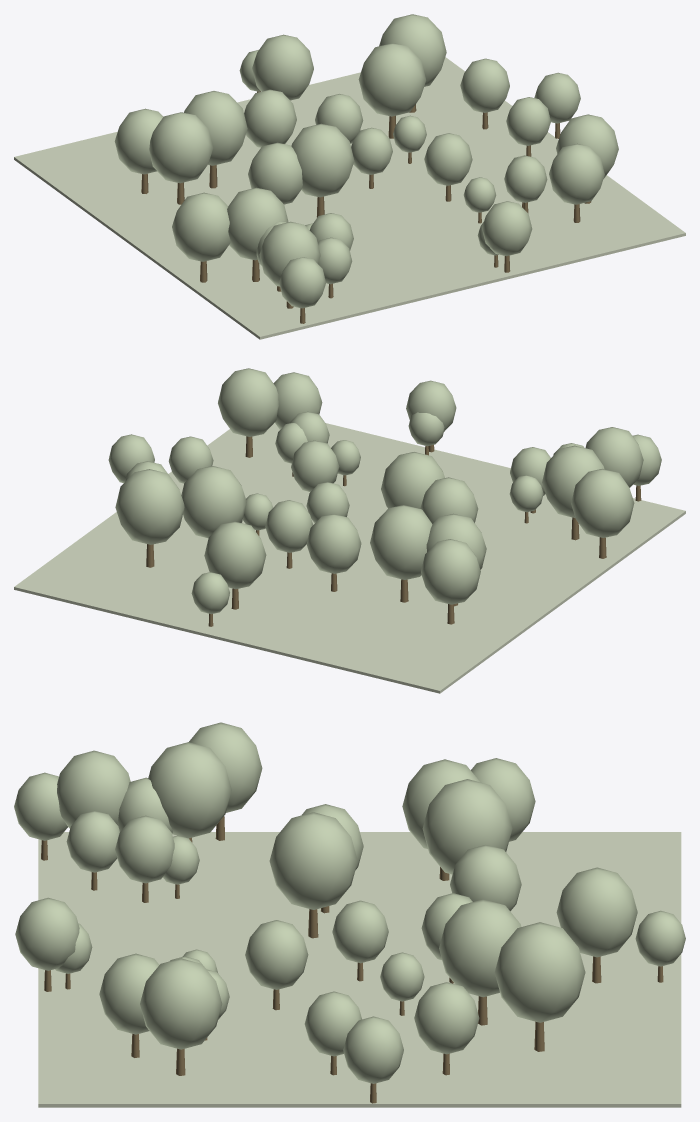
3 views of the same model, one above another, from view 1: azimuth 30°, elevation 25°; view 2: azimuth 150°, elevation 25°; view 3: azimuth 270°, elevation 25° (orthographic). The views are drawn at different scales.
Parts seen in each view (by area): view 1: terrain, lod-near-7, lod-near-16, lod-near-18, lod-near-12, lod-near-28, lod-near-6, lod-near-8, lod-near-1, lod-near-31, lod-near-15, lod-near-20 (+16 smaller); view 2: terrain, lod-near-15, lod-near-8, lod-near-7, lod-near-12, lod-near-17, lod-near-28, lod-near-30, lod-near-20, lod-near-18, lod-near-6, lod-near-29 (+18 smaller); view 3: terrain, lod-near-15, lod-near-18, lod-near-6, lod-near-17, lod-near-8, lod-near-28, lod-near-7, lod-near-29, lod-near-2, lod-near-9, lod-near-10 (+18 smaller).
Part boxes in pixels (bbox=[...]): terrain: bbox=[14, 57, 685, 339]; lod-near-7: bbox=[358, 43, 426, 116]; lod-near-16: bbox=[149, 112, 213, 183]; lod-near-18: bbox=[291, 123, 354, 197]; lod-near-12: bbox=[172, 192, 230, 261]; lod-near-28: bbox=[252, 34, 313, 100]; lod-near-6: bbox=[227, 187, 288, 260]; lod-near-8: bbox=[184, 91, 247, 165]; lod-near-1: bbox=[549, 143, 604, 204]; lod-near-31: bbox=[248, 142, 302, 204]; lod-near-15: bbox=[379, 14, 446, 86]; lod-near-20: bbox=[244, 89, 296, 147]; terrain: bbox=[14, 422, 685, 693]; lod-near-15: bbox=[115, 469, 184, 544]; lod-near-8: bbox=[370, 505, 432, 579]; lod-near-7: bbox=[181, 466, 246, 538]; lod-near-12: bbox=[571, 469, 634, 537]; lod-near-17: bbox=[218, 368, 278, 436]; lod-near-28: bbox=[204, 521, 266, 589]; lod-near-30: bbox=[421, 539, 480, 604]; lod-near-20: bbox=[306, 514, 361, 573]; lod-near-18: bbox=[381, 452, 444, 508]; lod-near-6: bbox=[542, 445, 604, 517]; lod-near-29: bbox=[585, 427, 643, 487]; terrain: bbox=[38, 832, 681, 1107]; lod-near-15: bbox=[494, 922, 585, 1022]; lod-near-18: bbox=[269, 812, 357, 909]; lod-near-6: bbox=[148, 742, 231, 838]; lod-near-17: bbox=[140, 958, 222, 1049]; lod-near-8: bbox=[422, 779, 512, 874]; lod-near-28: bbox=[556, 867, 637, 957]; lod-near-7: bbox=[439, 899, 521, 997]; lod-near-29: bbox=[57, 750, 130, 828]; lod-near-2: bbox=[414, 982, 479, 1054]; lod-near-9: bbox=[15, 897, 79, 970]; lod-near-10: bbox=[245, 920, 308, 989].
Bounding box in the file's own units: 34.56 × 7.14 × 33.44.
